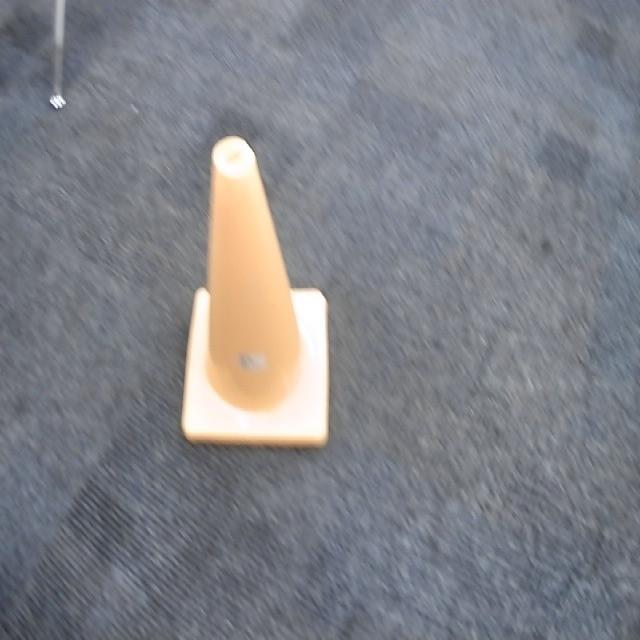cone: (180, 135, 332, 451)
